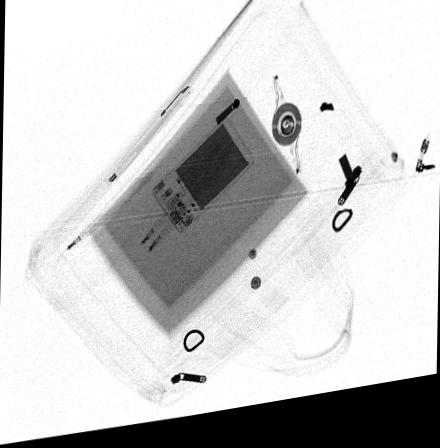Powerbank: (150, 122, 253, 240)
